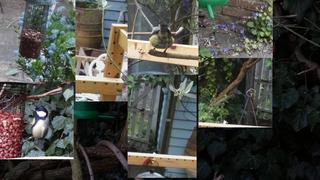blue tit: (149, 24, 174, 57)
great tit: (18, 106, 50, 145)
